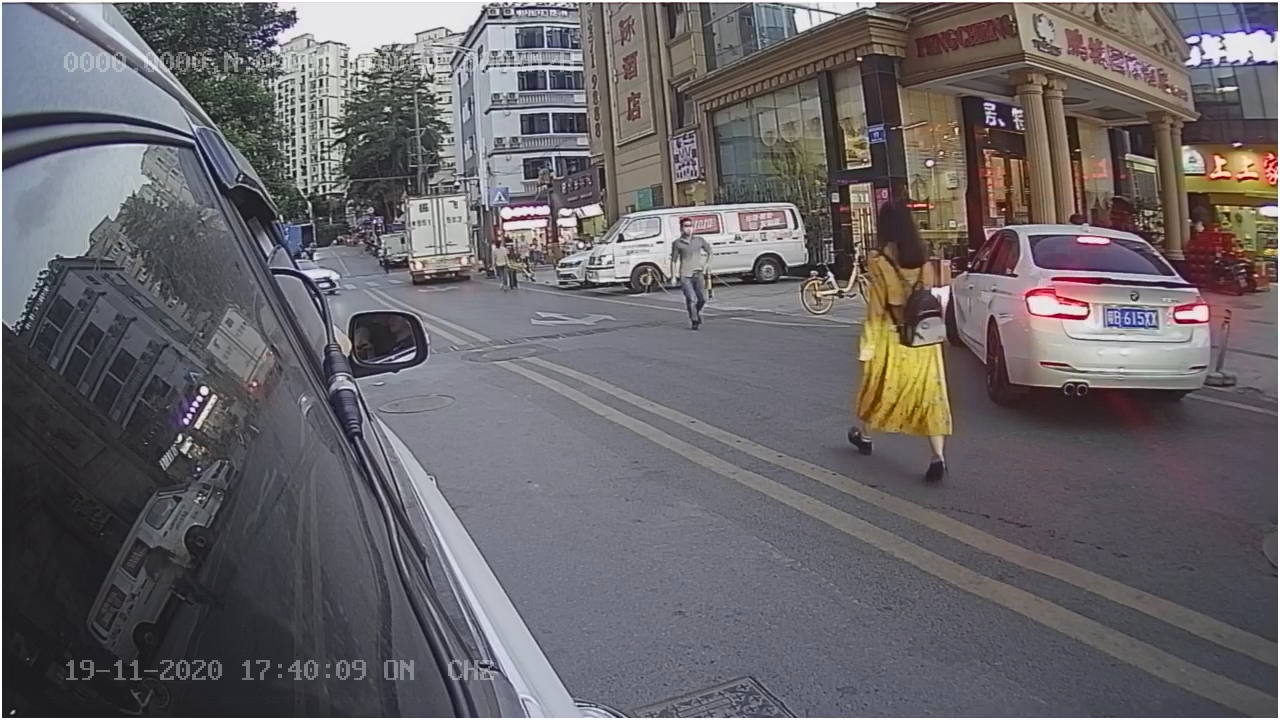person: (849, 198, 959, 488)
